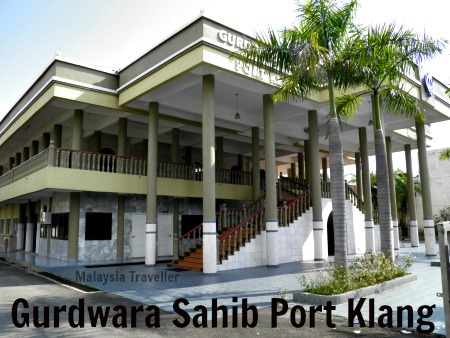Gurdwara: (4, 11, 443, 307)
